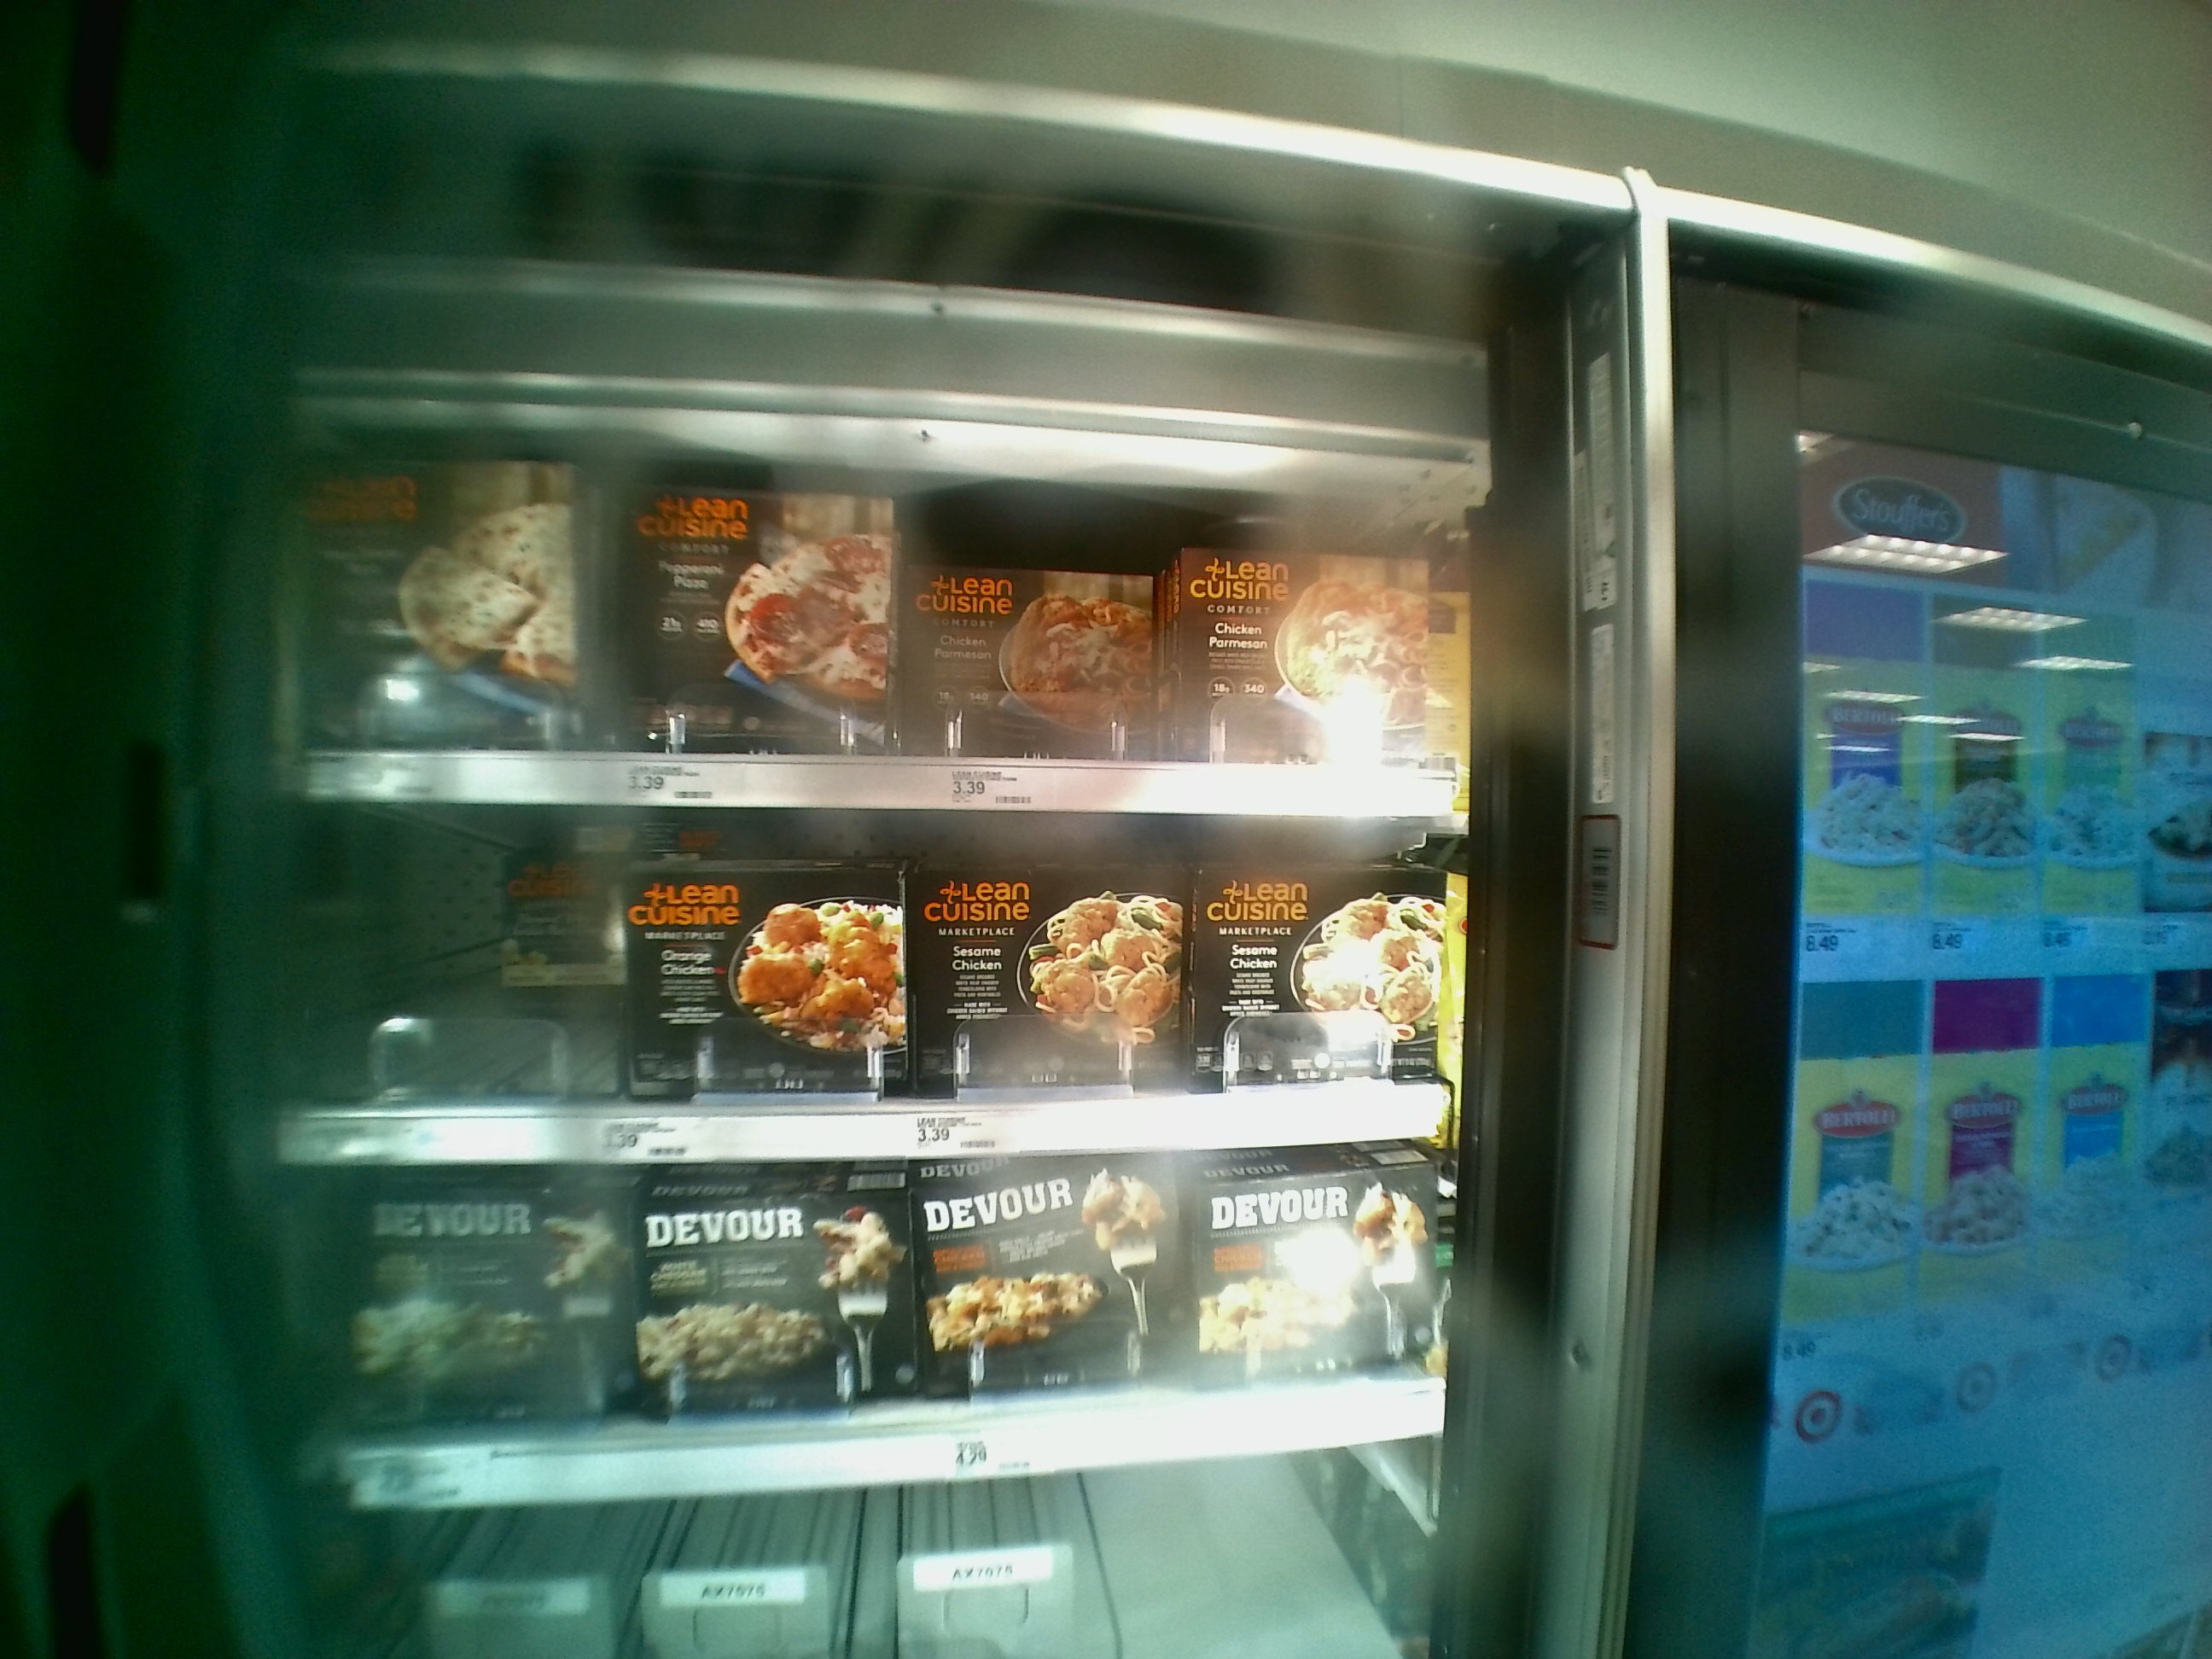shelf: (289, 396, 1465, 817), (286, 1133, 1447, 1513), (273, 803, 1453, 1168)
